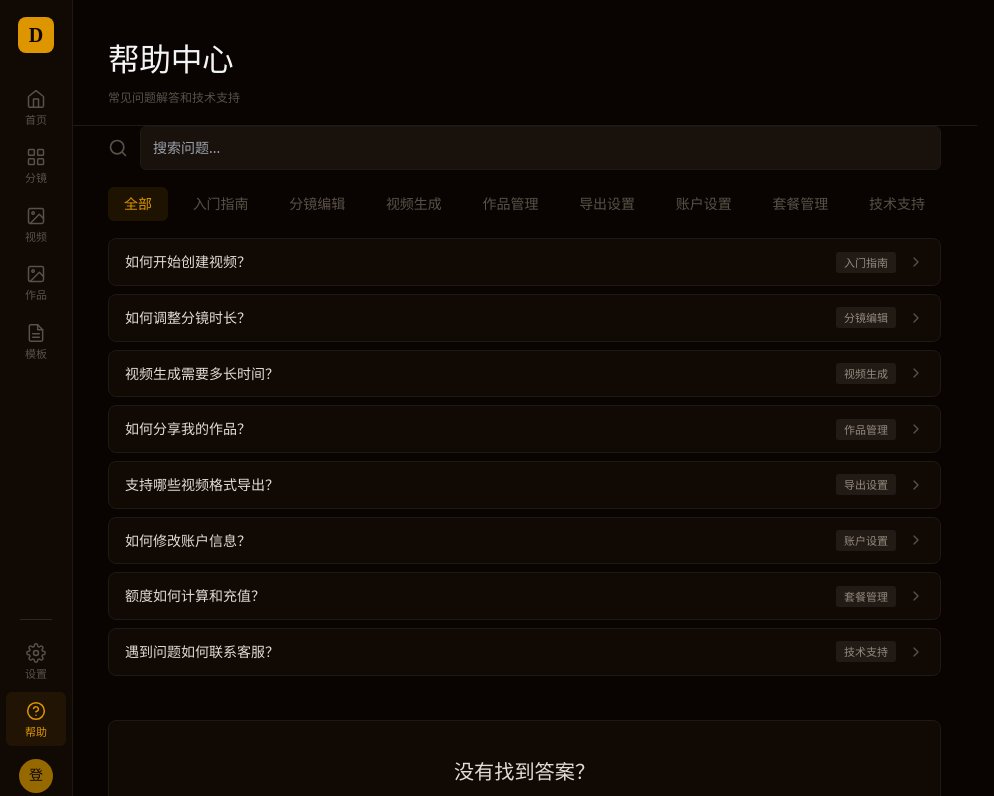
Scenario: 帮助页面测试 › FAQ展开/折叠测试 › 点击FAQ展开答案
Step 1. Click the button "如何开始创建视频？ 入门指南" → (188, 262), box x1=109 y1=239 x2=940 y2=285
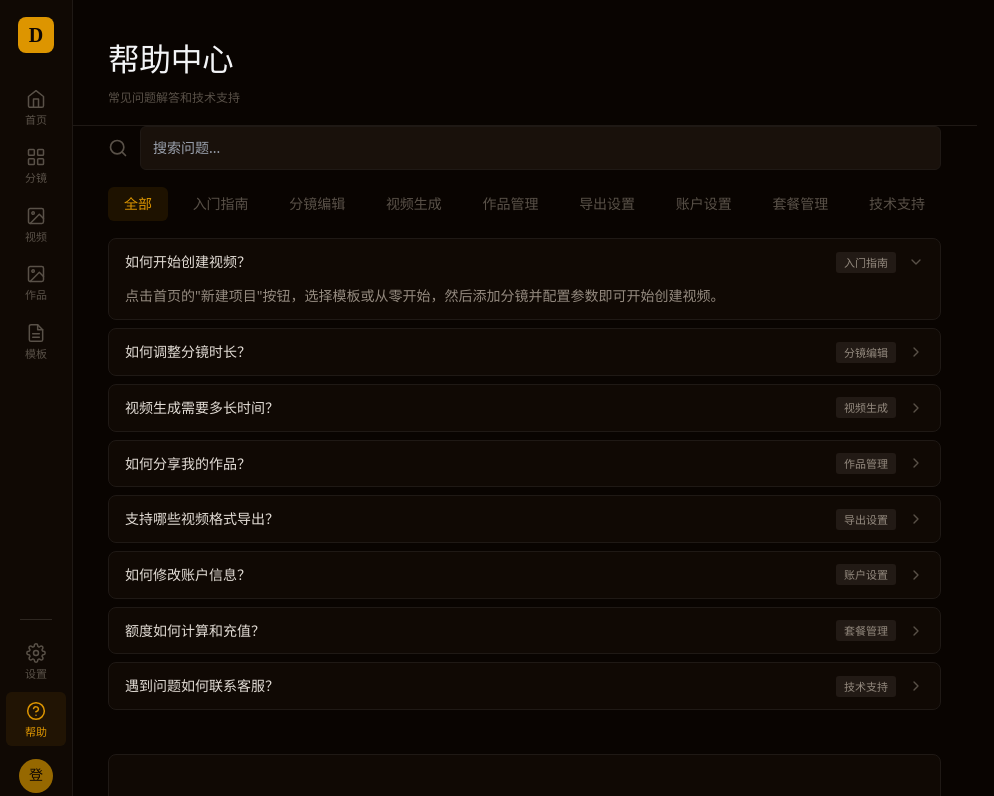
Check: the text "点击首页的\"新建项目\"按钮，选择模板或从零开始，然后添加分镜并配置参数即可开始创建视频。" is shown, box x1=125 y1=286 x2=724 y2=305
